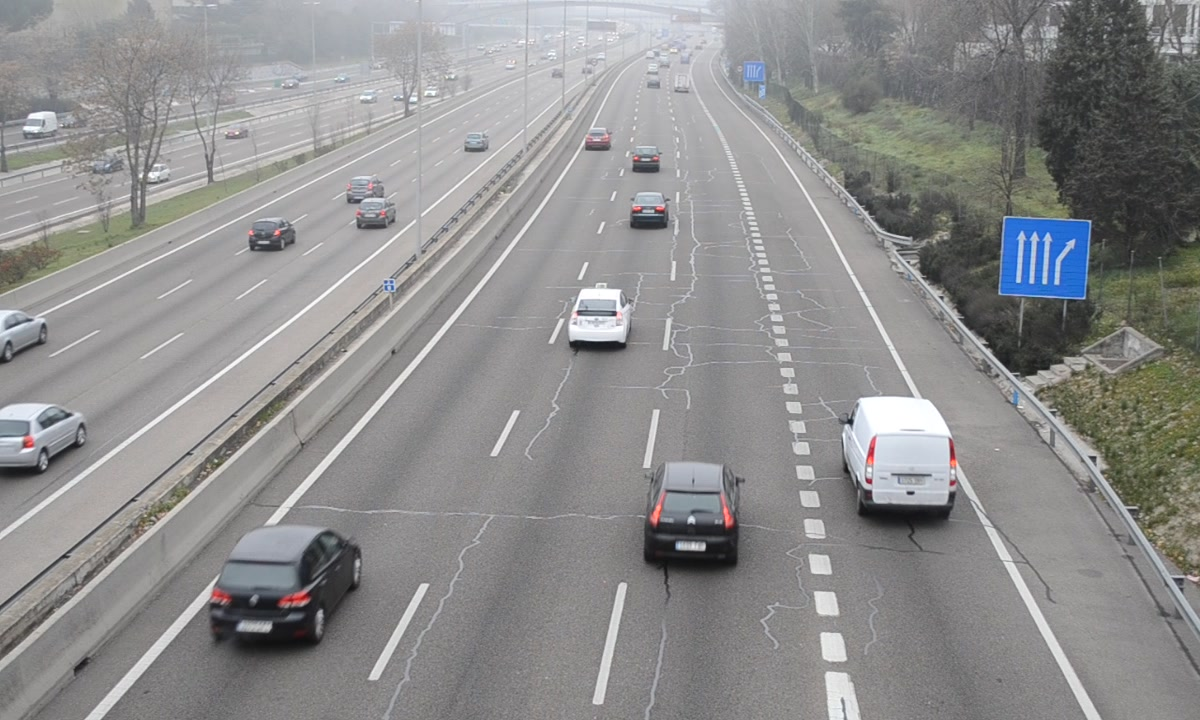car: (210, 527, 363, 643), (644, 463, 738, 564), (567, 288, 629, 343), (629, 190, 669, 227), (631, 144, 659, 173), (583, 126, 613, 151)
van: (845, 397, 955, 515)
